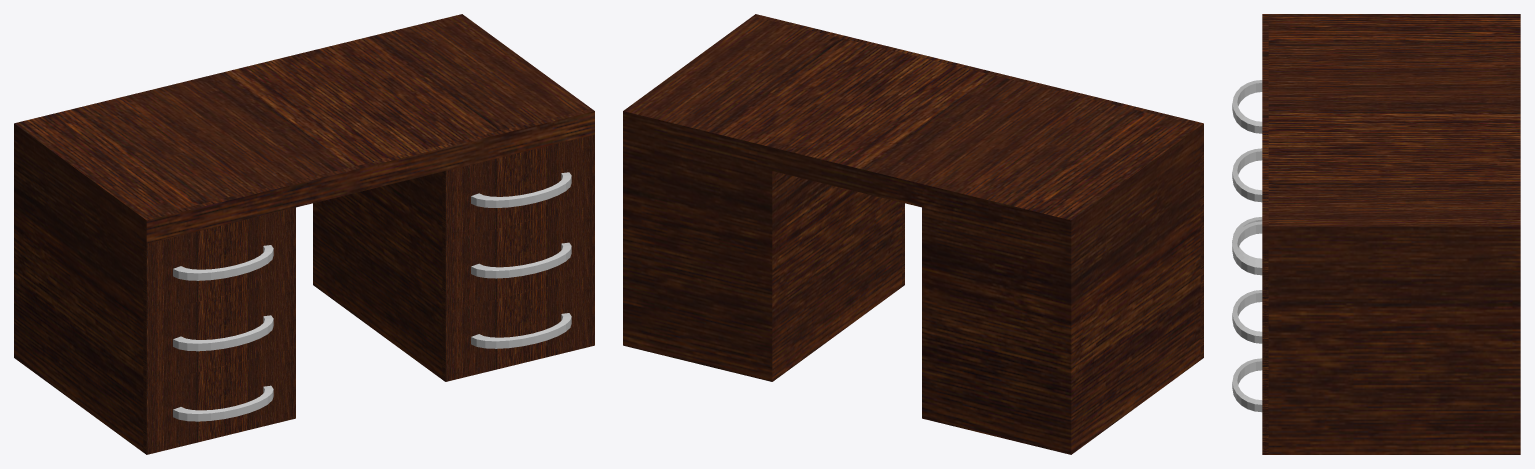
The model's file is Table1.fbx.
The picture shows the model from 3 angles, left to right: view 1: azimuth 30°, elevation 25°; view 2: azimuth 150°, elevation 25°; view 3: azimuth 270°, elevation 25°; orthographic projection. The views are drawn at different scales.
Parts seen in each view (by area): view 1: Body, Drawer.L.Top, Drawer.R.Bottom, Drawer.L.Bottom, Drawer.R.Middle, Drawer.L.Middle, Drawer.R.Top, Drawer.R.Bottom.Handle, Drawer.L.Top.Handle, Drawer.R.Middle.Handle, Drawer.L.Bottom.Handle, Drawer.R.Top.Handle (+1 smaller); view 2: Body; view 3: Body, Drawer.L.Top.Handle, Drawer.R.Middle.Handle, Drawer.R.Bottom.Handle, Drawer.L.Middle.Handle, Drawer.R.Top.Handle, Drawer.R.Top, Drawer.R.Middle, Drawer.R.Bottom.
Boxes of the visible parts, x1,y1,x2,y2 form: Body: (14, 14, 594, 451); Drawer.L.Top: (143, 207, 295, 313); Drawer.R.Bottom: (442, 275, 594, 381); Drawer.L.Bottom: (143, 348, 295, 454); Drawer.R.Middle: (442, 205, 594, 311); Drawer.L.Middle: (143, 278, 295, 384); Drawer.R.Top: (442, 134, 594, 241); Drawer.R.Bottom.Handle: (471, 313, 571, 348); Drawer.L.Top.Handle: (173, 245, 273, 280); Drawer.R.Middle.Handle: (471, 242, 571, 278); Drawer.L.Bottom.Handle: (173, 385, 273, 421); Drawer.R.Top.Handle: (471, 172, 571, 207); Body: (623, 14, 1203, 454); Body: (1262, 14, 1520, 454); Drawer.L.Top.Handle: (1232, 80, 1262, 133); Drawer.R.Middle.Handle: (1232, 290, 1262, 343); Drawer.R.Bottom.Handle: (1232, 358, 1262, 412); Drawer.L.Middle.Handle: (1232, 148, 1262, 202); Drawer.R.Top.Handle: (1232, 221, 1262, 275); Drawer.R.Top: (1262, 249, 1268, 317); Drawer.R.Middle: (1262, 318, 1268, 386); Drawer.R.Bottom: (1262, 386, 1268, 454).
Size of what is drawn, in the model's own units: 200 by 100 by 114.
